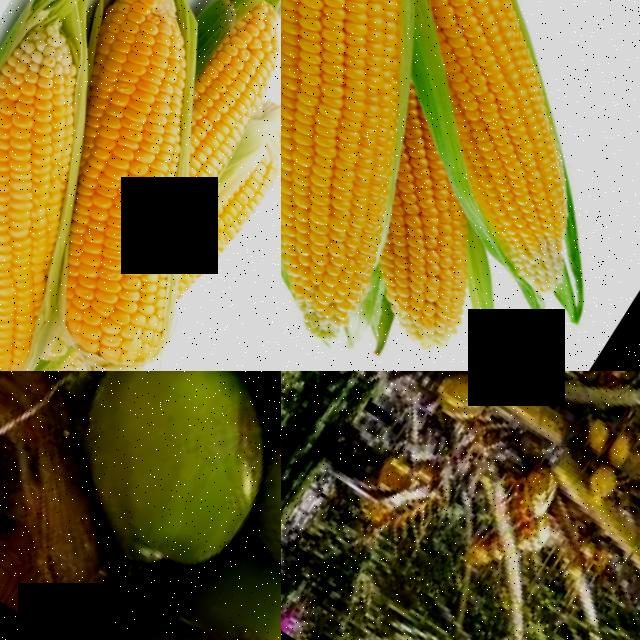coconut: (39, 371, 281, 591), (233, 395, 281, 618), (421, 371, 499, 432)
corn: (404, 44, 640, 287), (281, 26, 463, 338), (24, 148, 240, 371), (336, 162, 527, 370), (38, 0, 251, 183), (0, 12, 141, 253), (339, 0, 618, 106), (170, 108, 281, 293), (0, 174, 95, 371), (171, 0, 281, 156)
